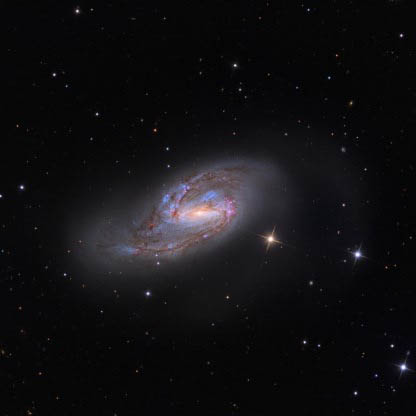Messier 66: (70, 146, 306, 292)
